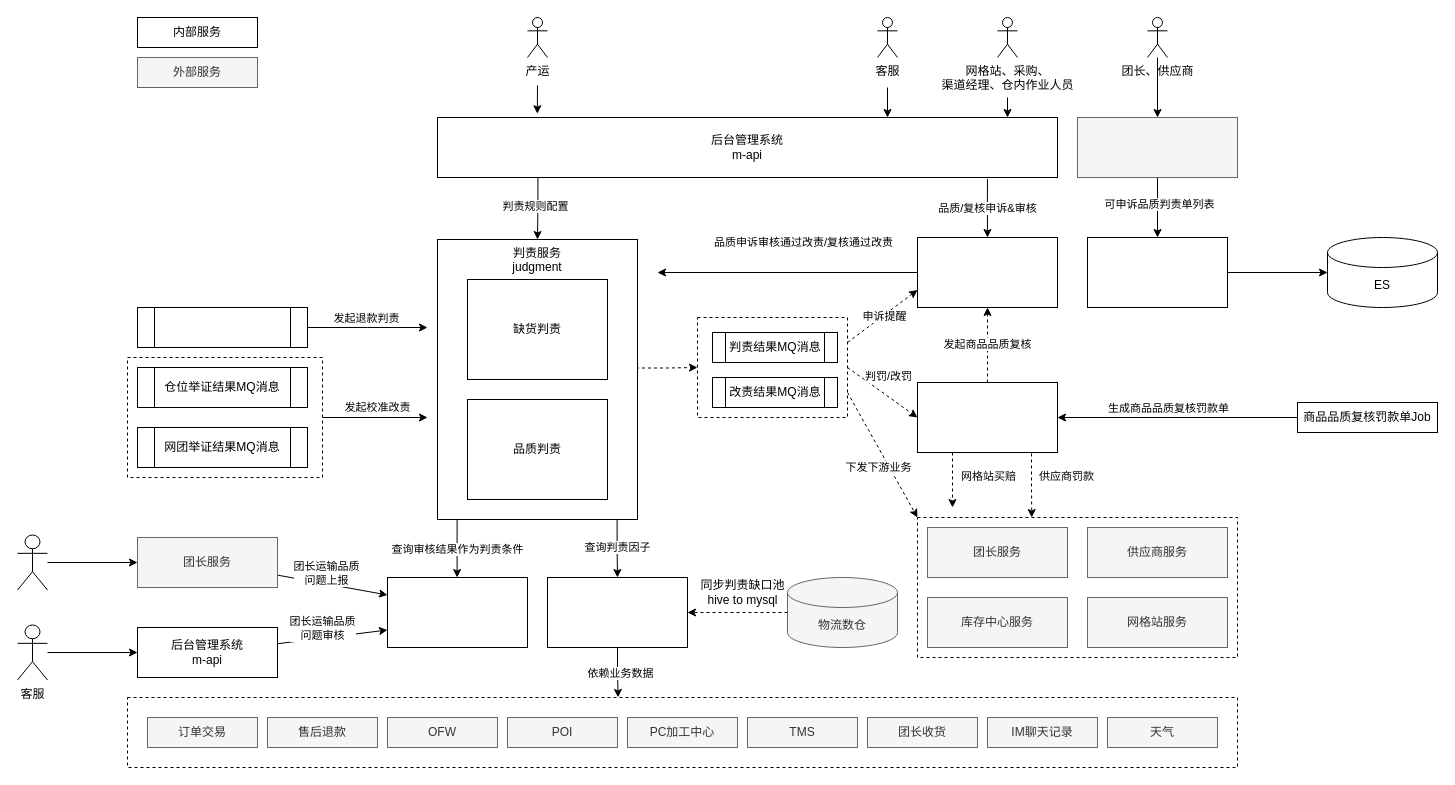
The diagram is 1455 pixels wide and 785 high, and some of its shapes have lost their labels. The centre of each missing label's shape, as x and y in pixels:
"业务接入 b-api" belongs at [1157,147].
"判罚服务 penalty" belongs at [987,417].
"判责数据服务 data" belongs at [1157,272].
"因子服务 facts" belongs at [617,612].
"团长" belongs at [32,562].
"审核服务 audit" belongs at [457,612].
"申诉服务 appeal" belongs at [987,272].
"退款成功MQ消息" belongs at [222,327].
